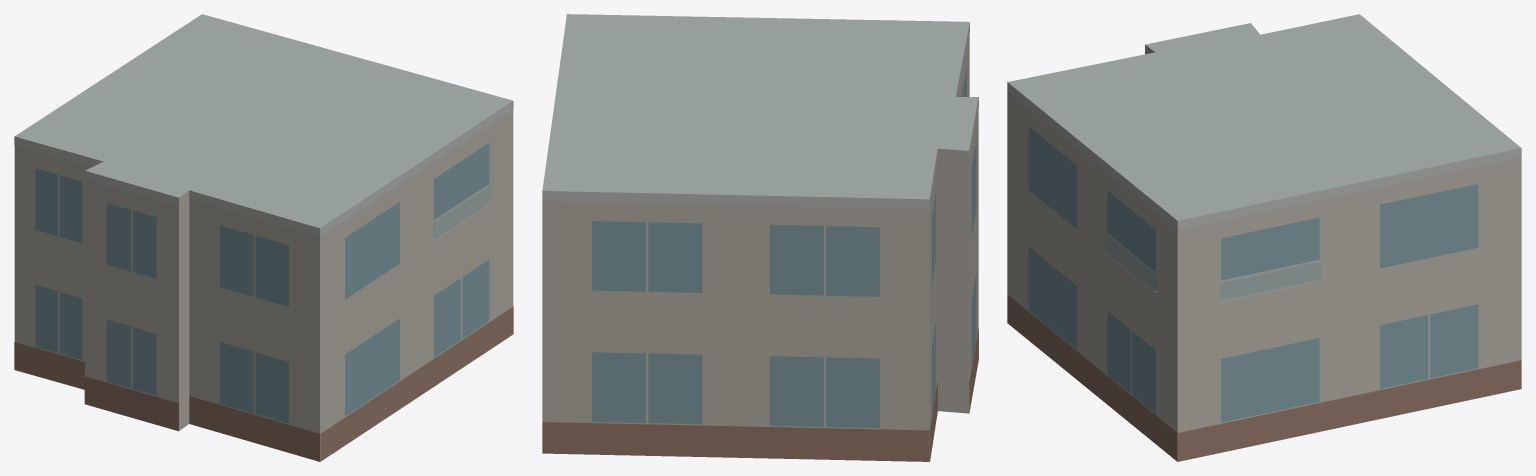
Rendered from survey-upis-32515914.glb.
The picture shows the model from 3 angles, left to right: view 1: azimuth 30°, elevation 25°; view 2: azimuth 150°, elevation 25°; view 3: azimuth 270°, elevation 25°; orthographic projection. The views are drawn at different scales.
Parts seen in each view (by area): view 1: survey-upis-32515914.tmp; view 2: survey-upis-32515914.tmp; view 3: survey-upis-32515914.tmp.
Boxes of the visible parts, x1,y1,x2,y2 form: survey-upis-32515914.tmp: (14, 14, 513, 461); survey-upis-32515914.tmp: (542, 14, 978, 461); survey-upis-32515914.tmp: (1007, 14, 1521, 461).
Size of the model in its own units: 11.79 by 6.4 by 12.39.
